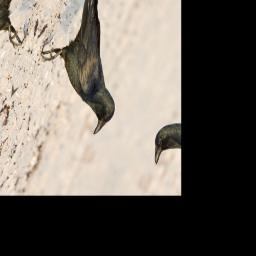Crow: (20, 0, 158, 141)
